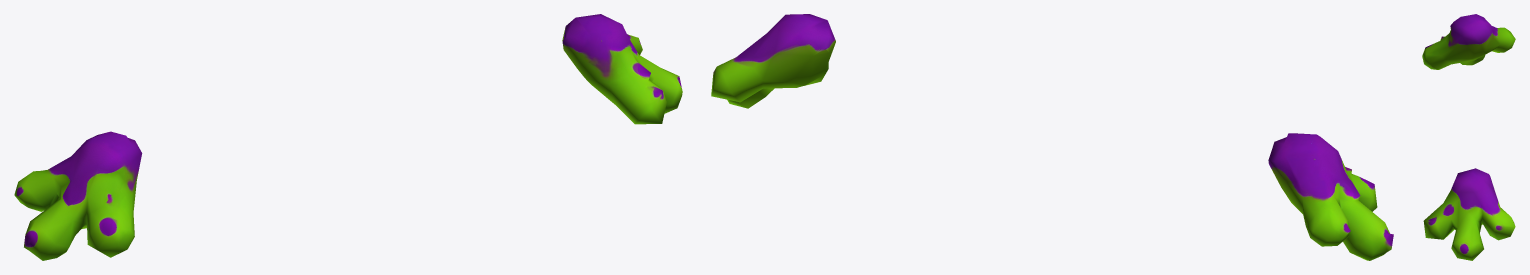
The model's file is PoisonFrogWear.fbx.
3 renders of one model, left to right at view 1: azimuth 30°, elevation 25°; view 2: azimuth 150°, elevation 25°; view 3: azimuth 270°, elevation 25°, orthographic. The views are drawn at different scales.
Parts seen in each view (by area): view 1: FootR, FootL; view 2: FootR, FootL; view 3: FootL, FootR.
Part boxes in pixels (box(x1,y1,x2,y2)): FootR: box(14, 131, 142, 260); FootL: box(562, 14, 682, 124); FootR: box(1268, 133, 1393, 260); FootL: box(711, 14, 835, 108); FootL: box(1423, 168, 1515, 260); FootR: box(1422, 14, 1515, 69).
Size of the model in its own units: 1.1 by 0.1692 by 0.2089.
1 material, 1 textured.
